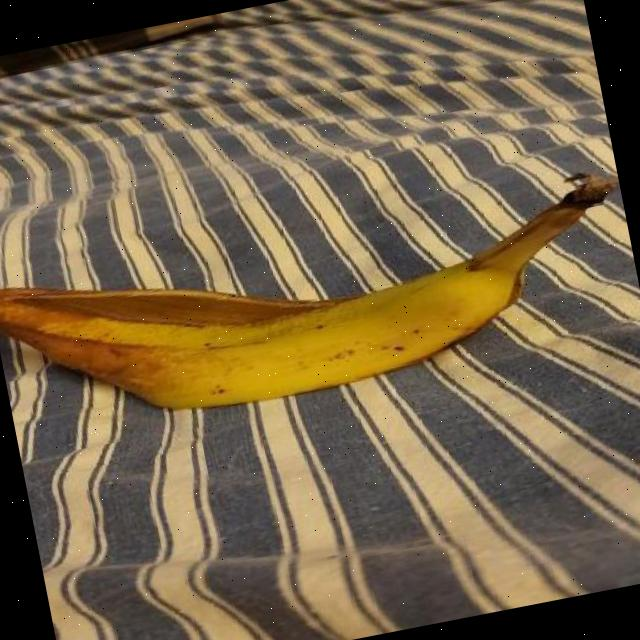banana-peel: (0, 161, 640, 450)
